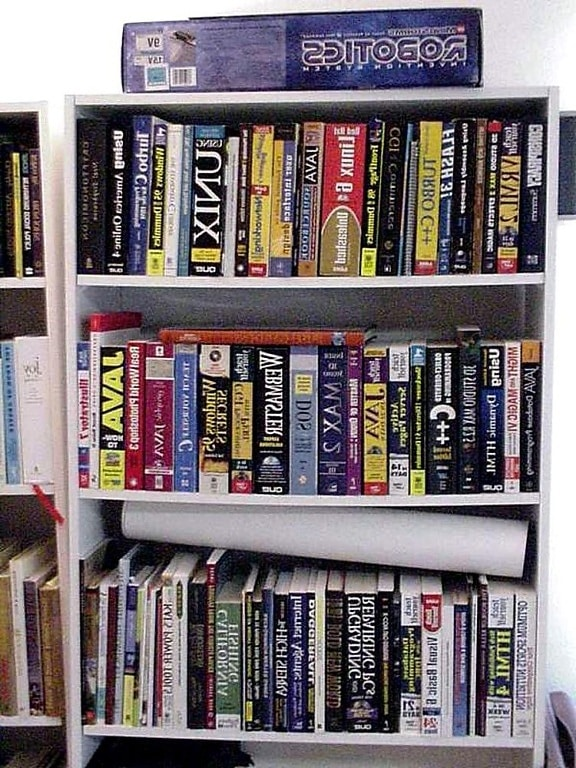not a gesture sign: (297, 121, 323, 276)
